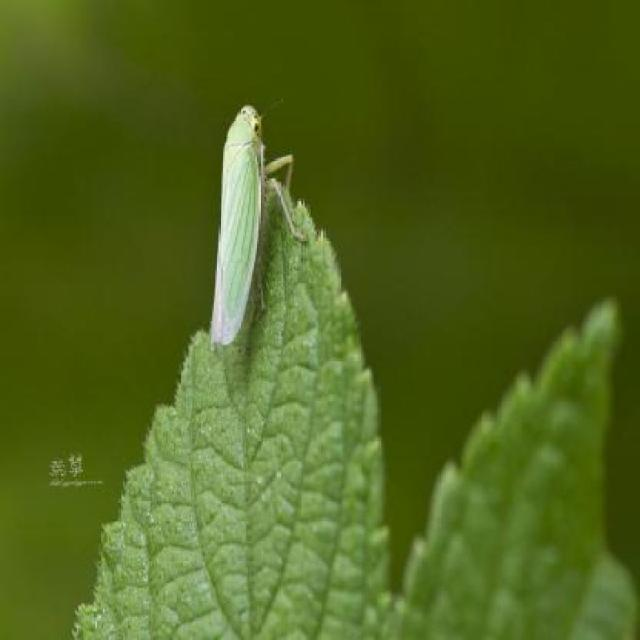green-leafhopper: (206, 99, 305, 355)
